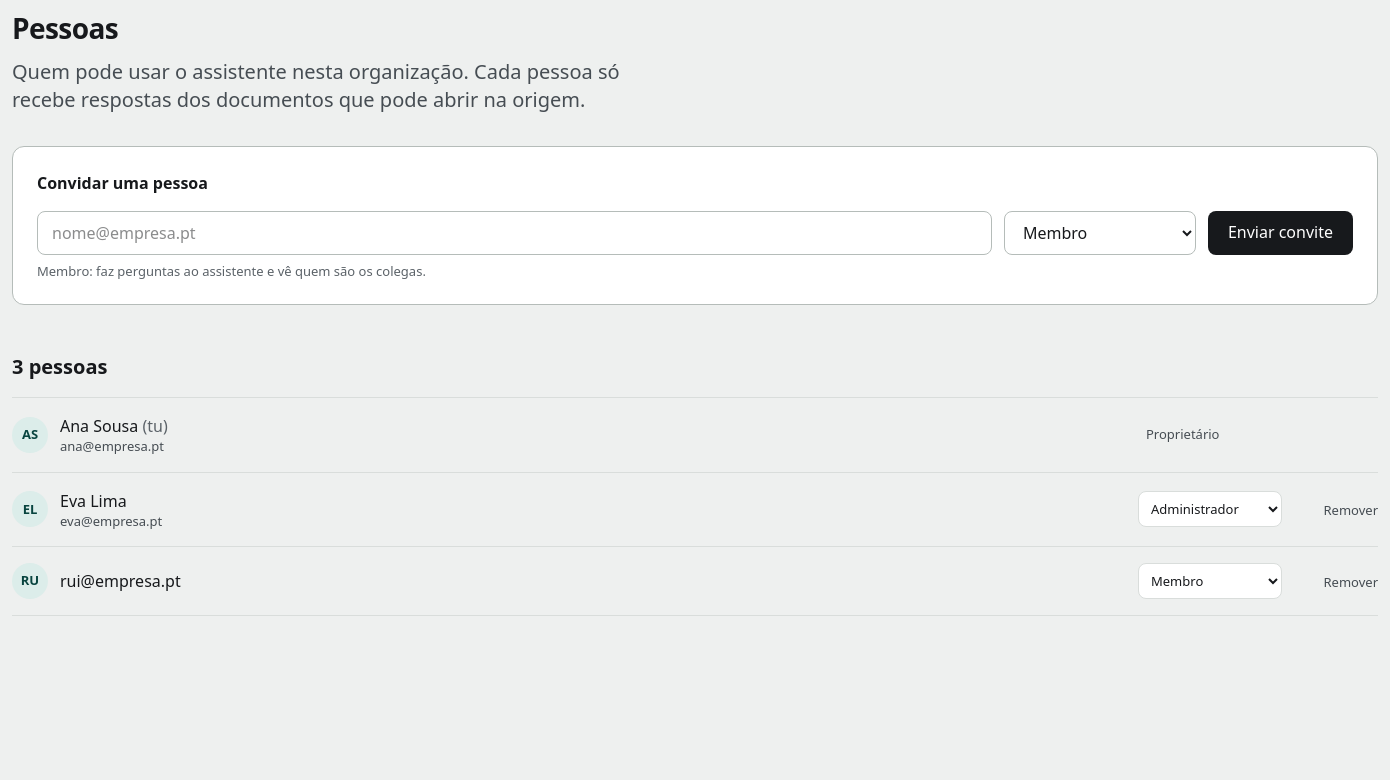
Test case: PeopleView › shows the link to pass on while e-mails are not sent
This screenshot has width=1390, height=780.
Step 1. Type "rui@empresa.pt" into the field with placeholder "nome@empresa.pt" → (514,233), box [37, 211, 992, 255]
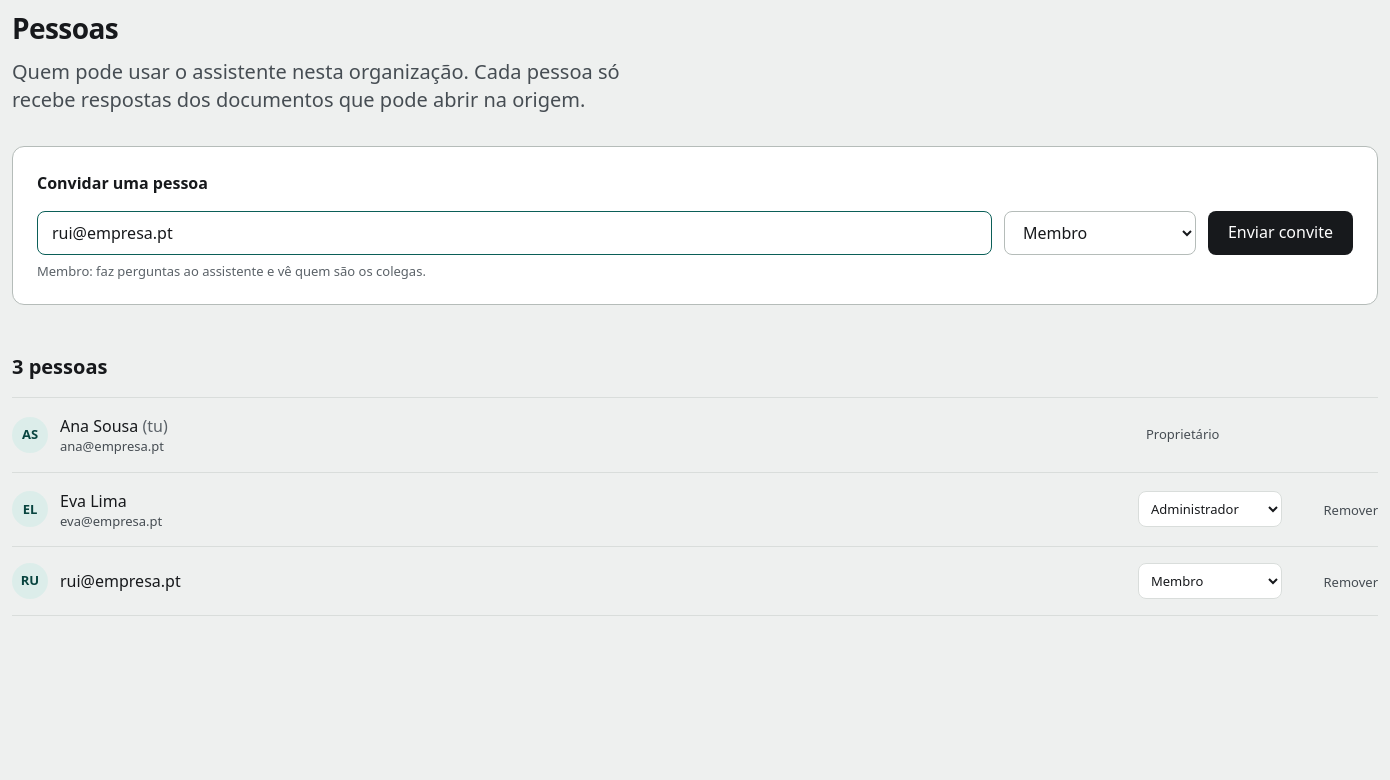
Step 2. Click the button "Enviar convite" → (1280,233), box [1208, 211, 1353, 255]
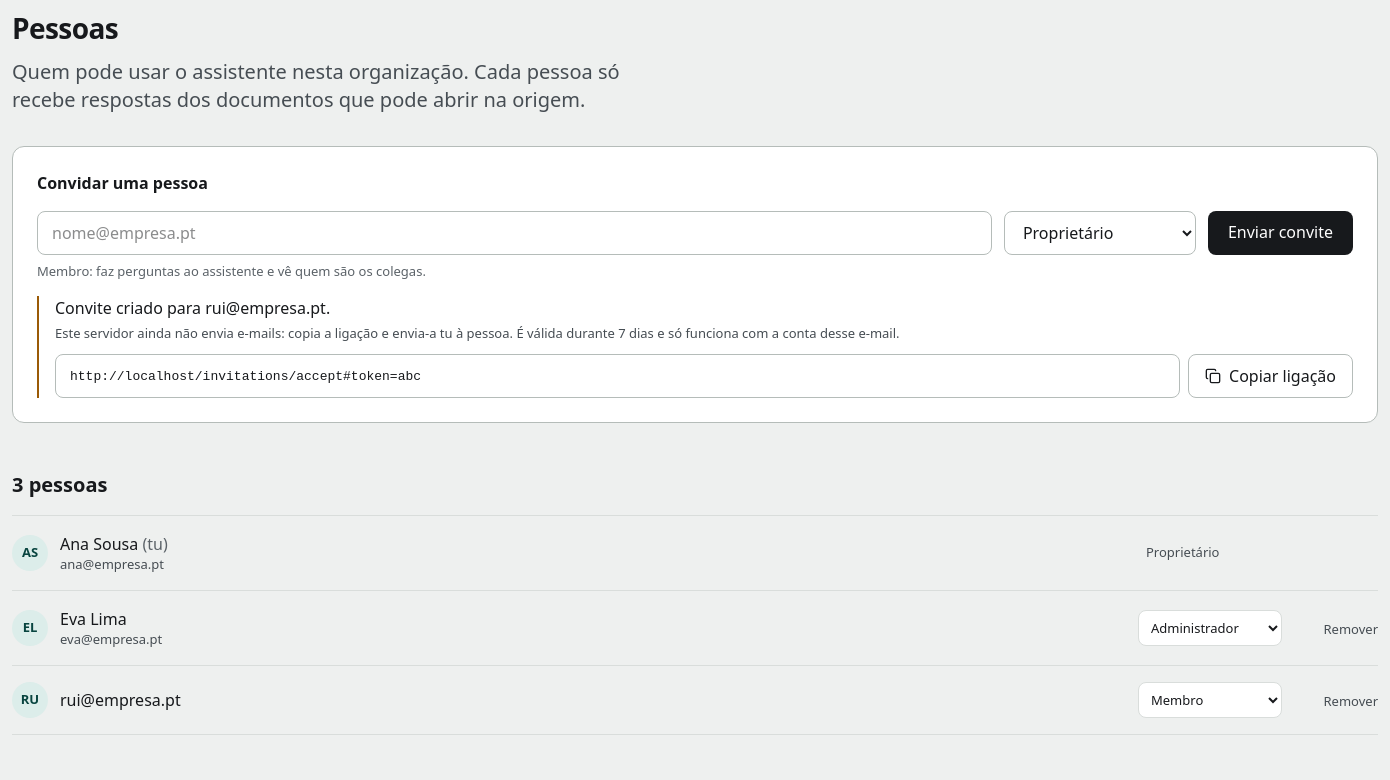
Expected: the text "Convite criado para rui@empresa.pt." is shown, [55, 297, 330, 319]
